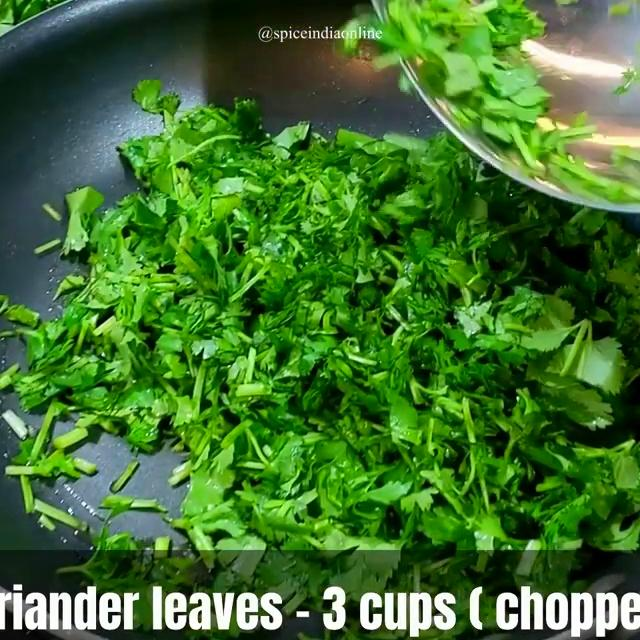cilantro: (144, 152, 592, 548)
